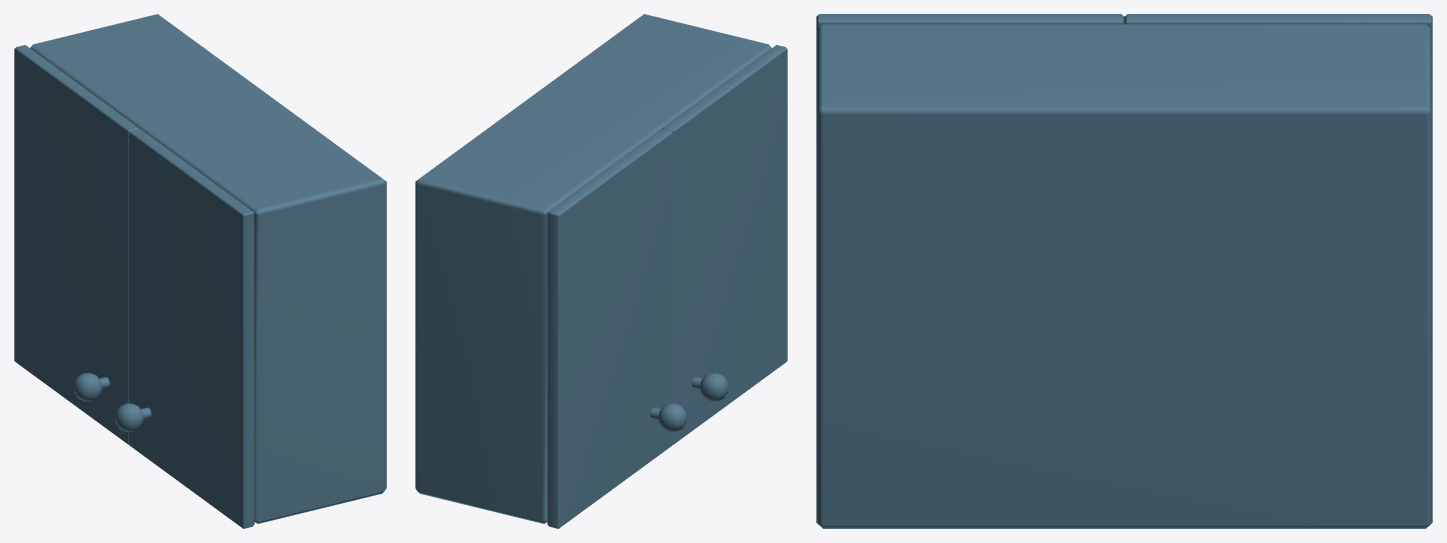
The model's file is laundryCabitnetTop.fbx.
The picture shows the model from 3 angles, left to right: view 1: azimuth 30°, elevation 25°; view 2: azimuth 150°, elevation 25°; view 3: azimuth 270°, elevation 25°; orthographic projection. The views are drawn at different scales.
Visible parts, largest first — view 1: object_5.002, object_5.004; view 2: object_5.002, object_5.004; view 3: object_5.002, object_5.004.
Boxes of the visible parts, x1,y1,x2,y2 form: object_5.002: (14, 14, 386, 523); object_5.004: (114, 129, 254, 528); object_5.002: (415, 14, 771, 528); object_5.004: (662, 45, 787, 444); object_5.002: (816, 14, 1432, 528); object_5.004: (816, 14, 1124, 29).
Size of the model in its own units: 56.02 by 94.67 by 125.
